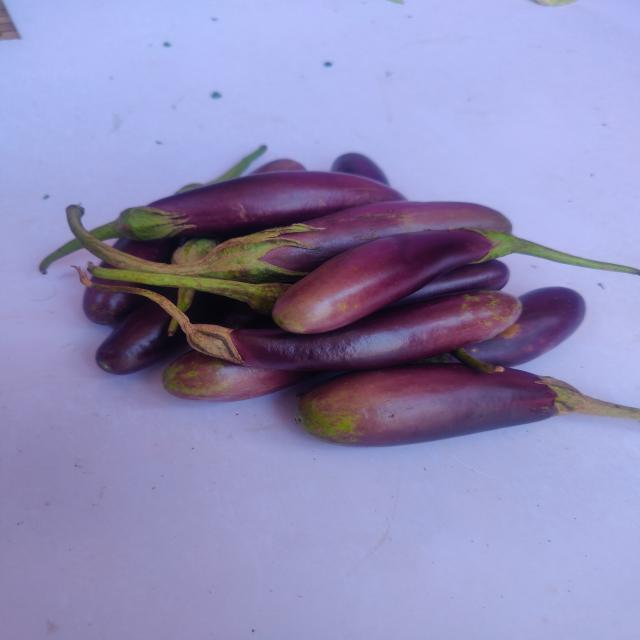Brinjal: (166, 201, 512, 283), (296, 364, 559, 447), (115, 171, 405, 240)
